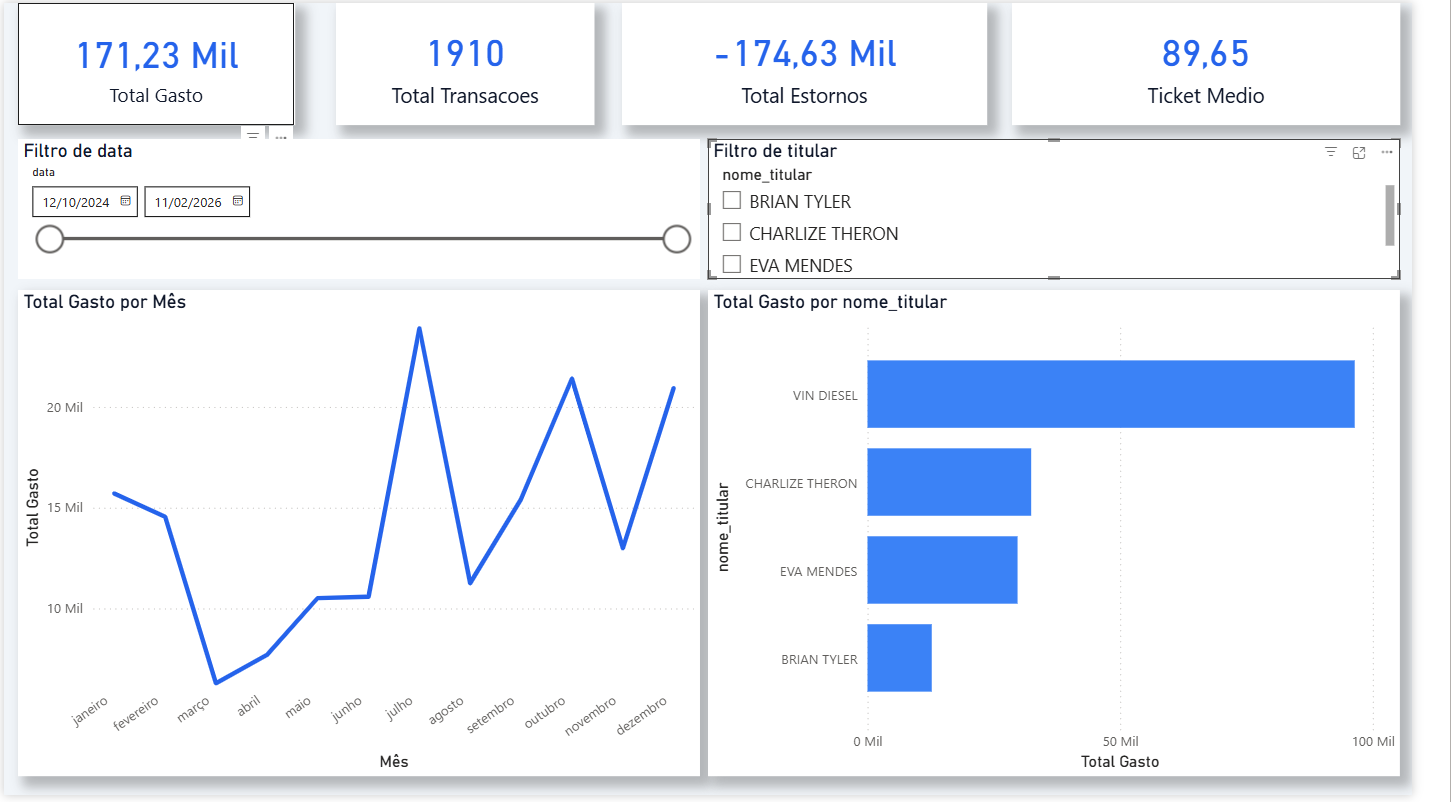

The dashboard page shown, as its layout file describes it:
{"tool":"powerbi","page":{"name":"Visão Geral","canvas":[1280,720],"ordinal":0},"visuals":[{"type":"card","fields":{"Values":["public fato_transacao.Total Gasto"]},"box":[12.4,0,251.6,111.1],"z":0},{"type":"card","fields":{"Values":["public fato_transacao.Total Transacoes"]},"box":[302.2,0,234.7,111.1],"z":1000},{"type":"card","fields":{"Values":["public fato_transacao.Ticket Medio"]},"box":[916.4,0,352.9,111.1],"z":2000},{"type":"card","fields":{"Values":["public fato_transacao.Total Estornos"]},"box":[561.8,0,331.6,111.1],"z":3000},{"type":"lineChart","fields":{"Category":["public dim_data.data.Variation.Hierarquia de datas.Ano","public dim_data.data.Variation.Hierarquia de datas.Trimestre","public dim_data.data.Variation.Hierarquia de datas.Mês","public dim_data.data.Variation.Hierarquia de datas.Dia"],"Y":["public fato_transacao.Total Gasto"]},"box":[12.4,261.3,619.6,441.8],"z":4000},{"type":"clusteredBarChart","fields":{"Category":["public dim_titular.nome_titular"],"Y":["public fato_transacao.Total Gasto"]},"box":[640,261.3,629.3,441.8],"z":5000},{"type":"slicer","title":"Filtro de titular","fields":{"Values":["public dim_titular.nome_titular"]},"box":[640,123.6,629.3,127.1],"z":6000},{"type":"slicer","title":"Filtro de data","fields":{"Values":["public dim_data.data"]},"box":[12.4,123.6,619.6,127.1],"z":7000}]}

Visuals, with their boxes in screenshot pixels (x1, y1, x2, y2), scaled from the page's 1280x720 canvas onto the 1452x802 screenshot:
card - public fato_transacao.Total Gasto: [x1=14, y1=0, x2=299, y2=124]
card - public fato_transacao.Total Transacoes: [x1=343, y1=0, x2=609, y2=124]
card - public fato_transacao.Ticket Medio: [x1=1040, y1=0, x2=1440, y2=124]
card - public fato_transacao.Total Estornos: [x1=637, y1=0, x2=1013, y2=124]
lineChart - public dim_data.data.Variation.Hierarquia de datas.Ano x public dim_data.data.Variation.Hierarquia de datas.Trimestre: [x1=14, y1=291, x2=717, y2=783]
clusteredBarChart - public dim_titular.nome_titular x public fato_transacao.Total Gasto: [x1=726, y1=291, x2=1440, y2=783]
"Filtro de titular" slicer: [x1=726, y1=138, x2=1440, y2=279]
"Filtro de data" slicer: [x1=14, y1=138, x2=717, y2=279]
